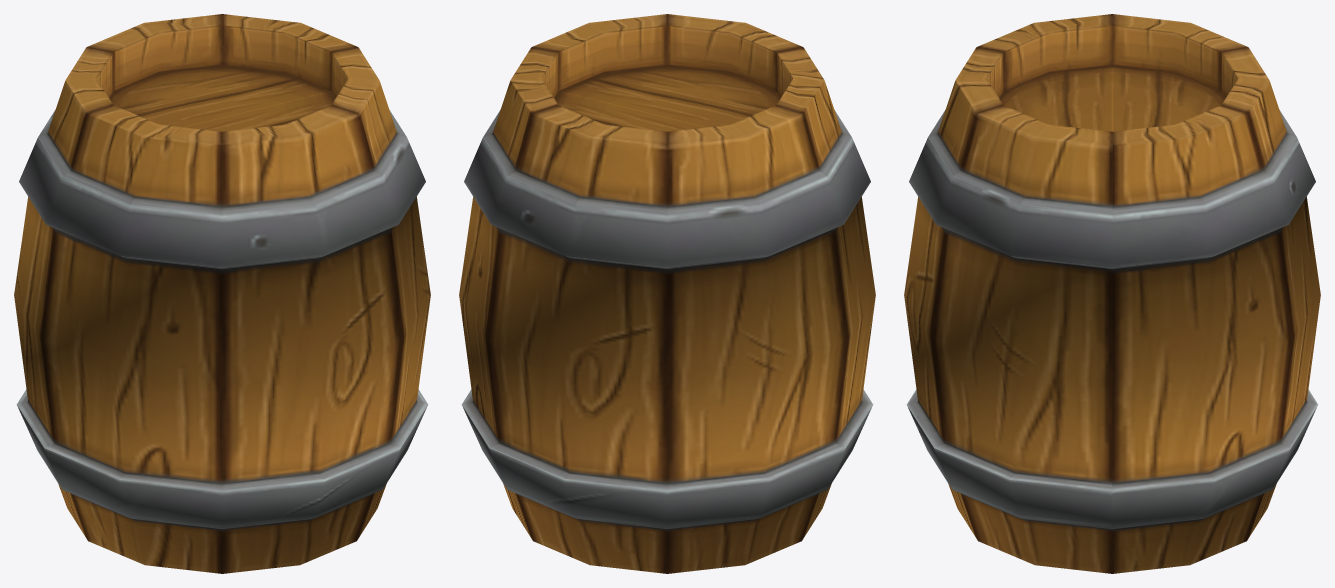
File: Barrel.fbx
The picture shows the model from 3 angles, left to right: view 1: azimuth 30°, elevation 25°; view 2: azimuth 150°, elevation 25°; view 3: azimuth 270°, elevation 25°; orthographic projection.
Parts seen in each view (by area): view 1: Circle; view 2: Circle; view 3: Circle.
Boxes of the visible parts, left/top/right/bottom form: Circle: left=14, top=14, right=430, bottom=573; Circle: left=459, top=14, right=875, bottom=573; Circle: left=904, top=14, right=1320, bottom=573.
Size of the model in its own units: 0.7752 by 0.882 by 0.7752.
1 material, 1 textured.
